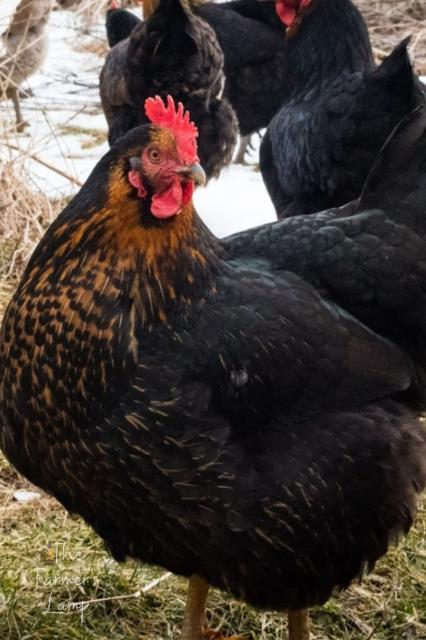Chicken: (0, 96, 426, 640), (260, 0, 426, 222), (96, 1, 241, 188)
